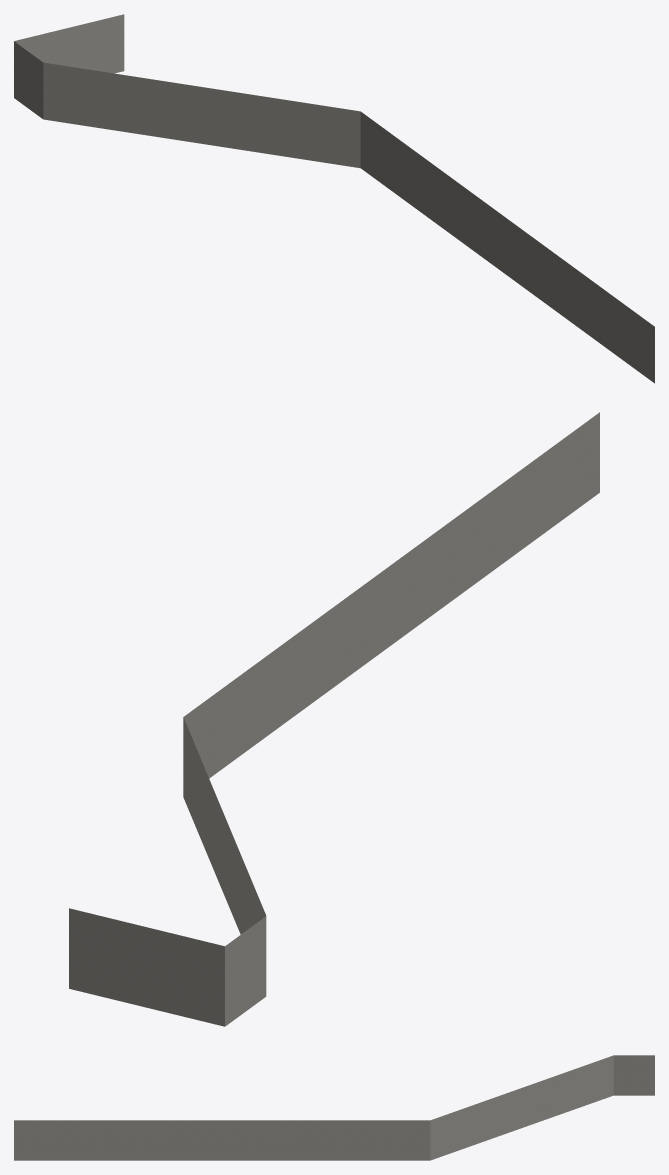
File: kd_stage_135ded_3_3.glb
The picture shows the model from 3 angles, top to bottom: view 1: azimuth 30°, elevation 25°; view 2: azimuth 150°, elevation 25°; view 3: azimuth 270°, elevation 25°; orthographic projection. The views are drawn at different scales.
Visible parts, largest first — view 1: kd_stage_135ded_3_3; view 2: kd_stage_135ded_3_3; view 3: kd_stage_135ded_3_3.
Boxes of the visible parts, x1,y1,x2,y2 form: kd_stage_135ded_3_3: (14,14,654,383); kd_stage_135ded_3_3: (69,412,599,1026); kd_stage_135ded_3_3: (14,1055,654,1160).
Bounding box in the file's own units: 1.11 × 0.3207 × 4.63.
1 material, 1 textured.
